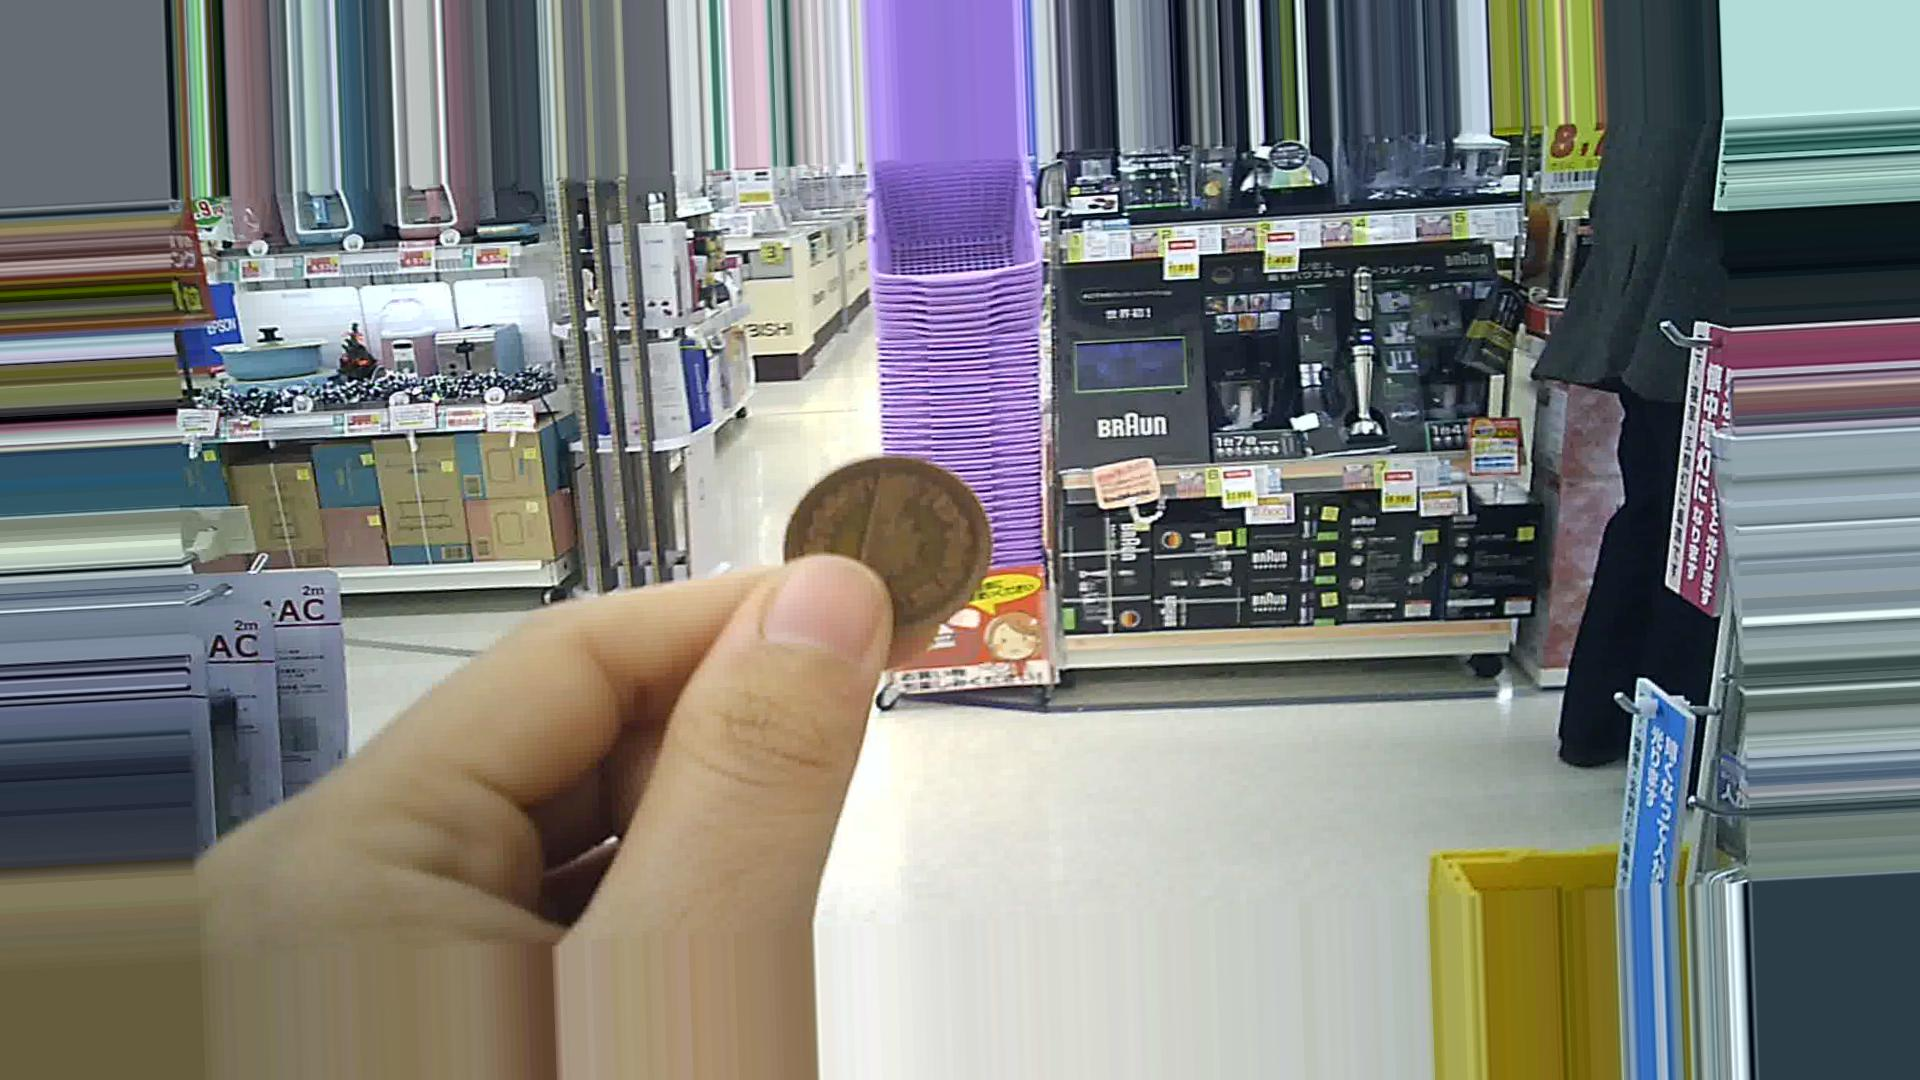10 Yen: (774, 440, 996, 653)
